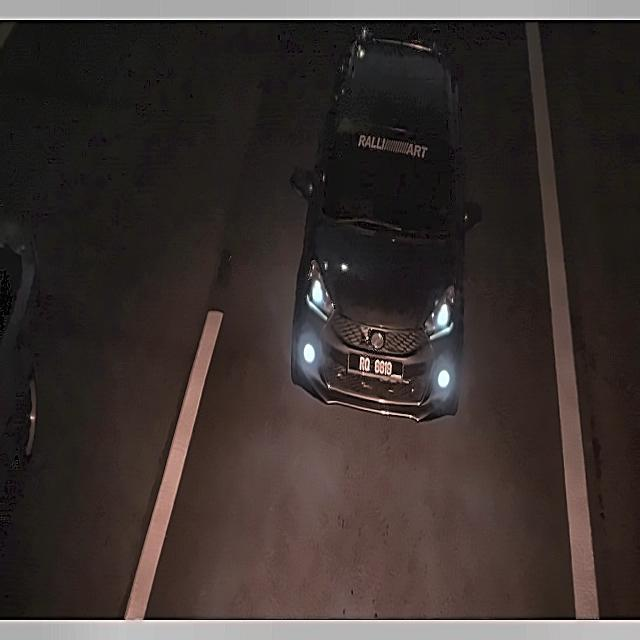car: (345, 339, 410, 389)
